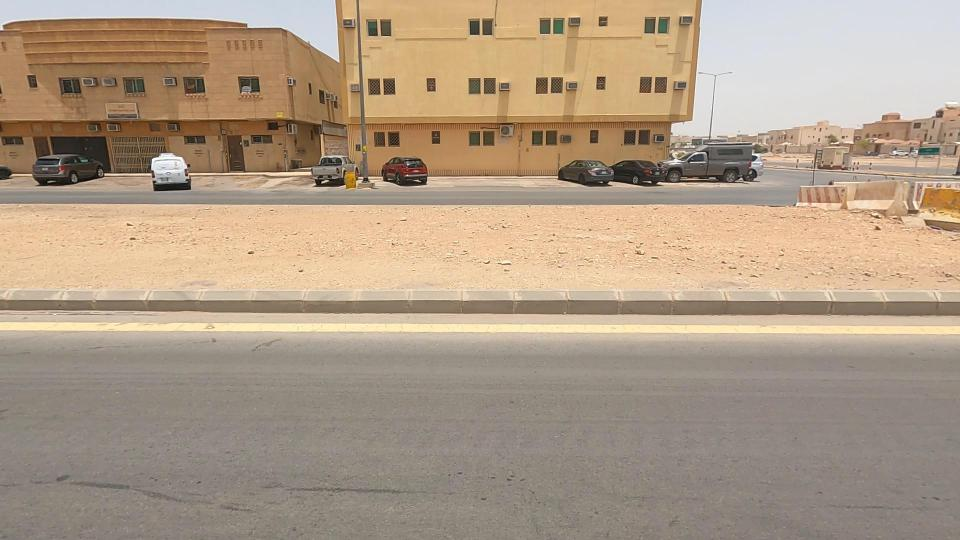CONSTRUCTION_ROAD: (728, 127, 960, 272)
